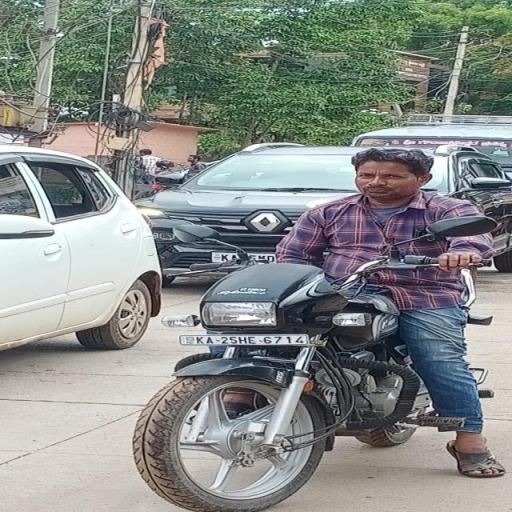bike: (125, 137, 500, 512)
numberplate: (178, 334, 310, 347)
withouthelmet: (354, 148, 430, 198)
